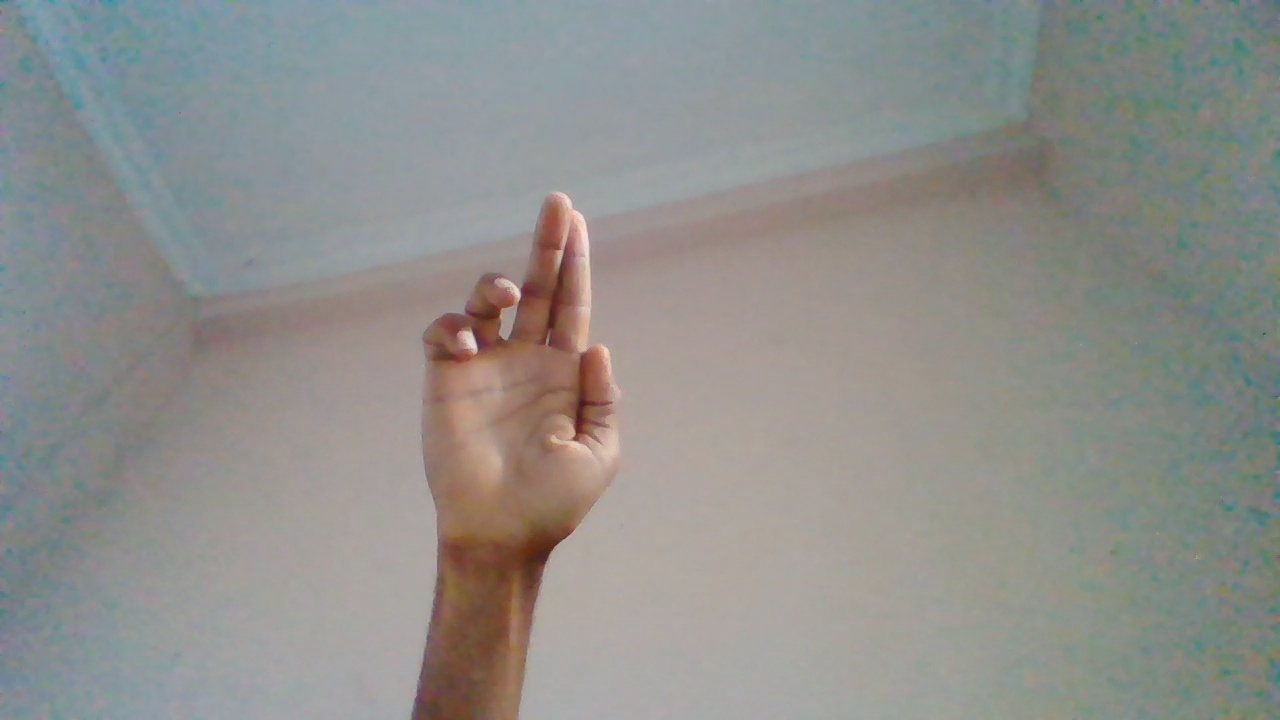gne: (423, 196, 620, 612)
